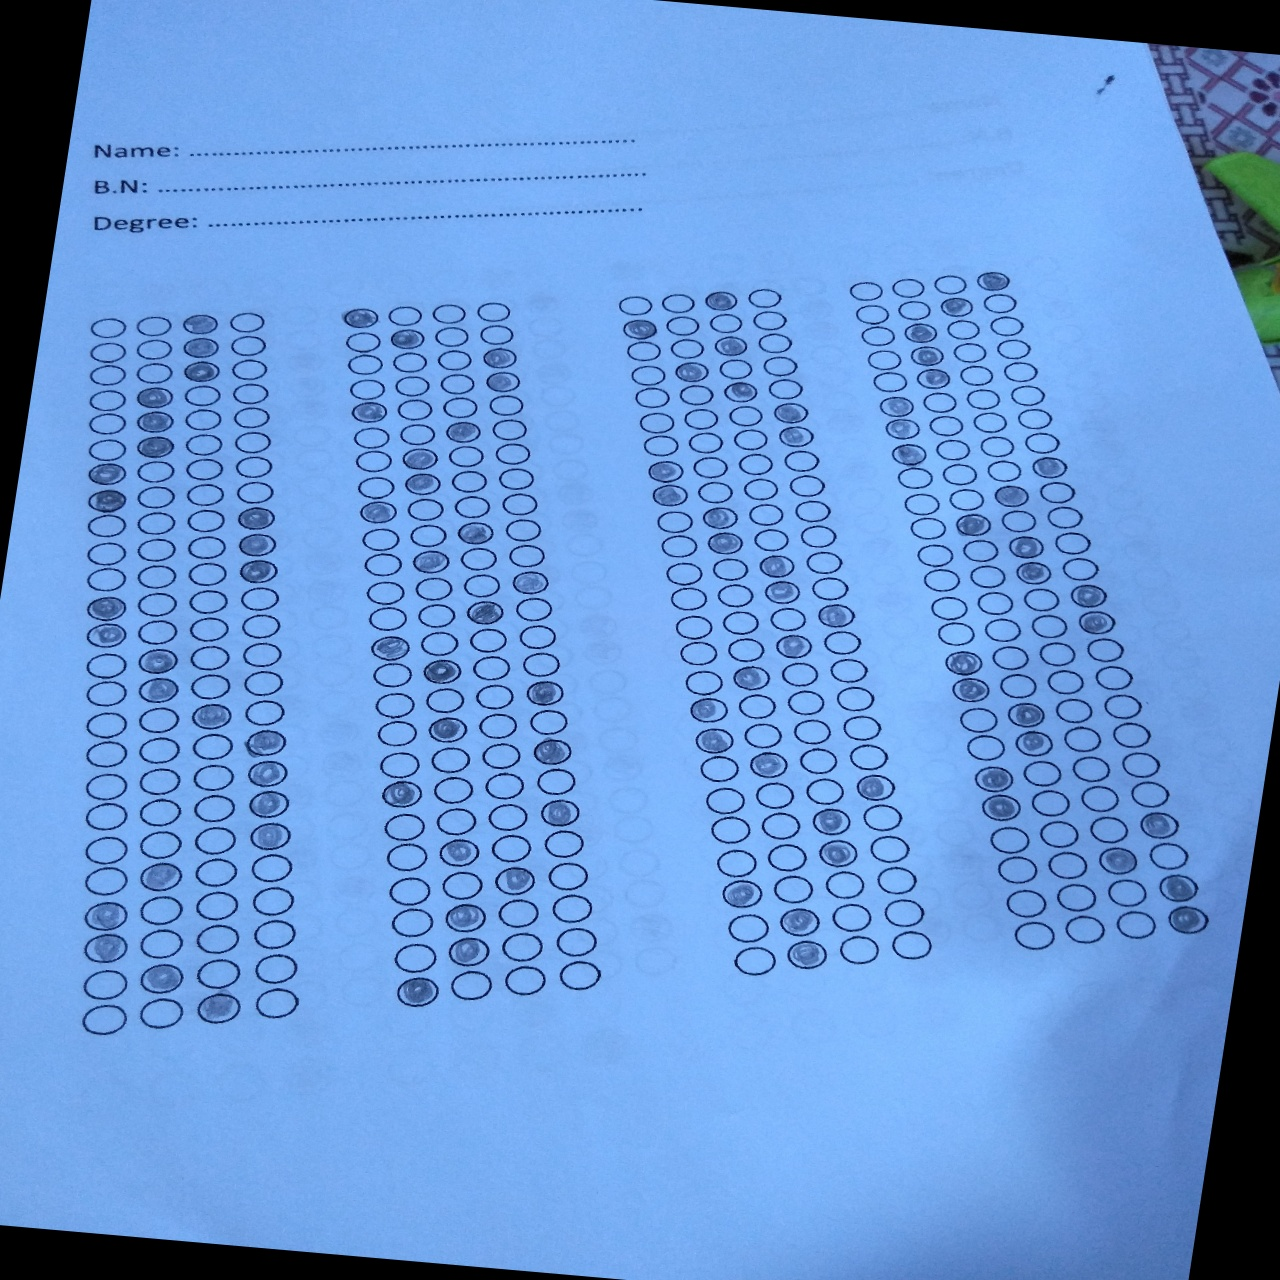not-c: (250, 985, 301, 1022), (136, 926, 188, 964), (550, 922, 601, 960), (445, 967, 497, 1005), (730, 942, 781, 980), (723, 910, 774, 947), (79, 1001, 130, 1037), (135, 892, 186, 928), (190, 855, 241, 891), (835, 933, 884, 971), (135, 995, 185, 1032), (251, 951, 301, 987), (192, 956, 243, 993), (248, 883, 299, 919), (246, 850, 297, 886), (554, 958, 605, 994), (886, 927, 937, 964), (190, 888, 241, 924), (496, 928, 547, 964), (248, 917, 299, 952), (499, 962, 550, 998), (879, 896, 930, 931), (190, 790, 239, 825), (81, 967, 130, 1002), (193, 921, 243, 956), (188, 730, 236, 765), (1034, 816, 1082, 851), (81, 864, 130, 898), (134, 734, 183, 768), (135, 702, 184, 736), (701, 784, 751, 817), (843, 740, 893, 772), (82, 833, 130, 867), (136, 828, 184, 862), (136, 796, 184, 830), (136, 765, 184, 799), (240, 695, 288, 729), (1060, 913, 1108, 947), (239, 666, 288, 699), (872, 864, 921, 897), (763, 842, 812, 874), (858, 802, 907, 835), (706, 813, 755, 846), (750, 779, 799, 812), (794, 744, 843, 777), (192, 823, 239, 857), (190, 761, 237, 795), (495, 896, 542, 930), (392, 941, 438, 975), (1102, 876, 1149, 910), (821, 869, 869, 901), (771, 873, 819, 906), (866, 832, 914, 865), (696, 753, 744, 785), (828, 901, 876, 934), (1145, 839, 1193, 872), (713, 847, 762, 879), (533, 765, 579, 799), (484, 799, 530, 833), (384, 840, 430, 874), (438, 869, 484, 903), (540, 828, 586, 862), (82, 799, 129, 832), (429, 774, 476, 806), (380, 811, 427, 844), (488, 832, 535, 865), (544, 860, 591, 893), (985, 823, 1032, 856), (1053, 880, 1099, 913), (1044, 849, 1091, 881), (1112, 908, 1159, 941), (757, 810, 805, 842), (801, 775, 849, 806), (387, 874, 433, 907), (389, 906, 435, 939), (994, 855, 1040, 887), (1003, 887, 1049, 920), (83, 738, 130, 770), (83, 770, 130, 802), (186, 670, 233, 702), (433, 806, 479, 838), (549, 893, 595, 925), (239, 639, 285, 670), (467, 625, 512, 656), (421, 685, 467, 716), (467, 653, 512, 685), (525, 707, 571, 738), (482, 770, 527, 802), (83, 708, 130, 738), (1126, 779, 1173, 810), (1012, 922, 1058, 953), (478, 741, 523, 772), (741, 720, 785, 751), (777, 659, 822, 690), (237, 611, 282, 641), (83, 679, 129, 709), (365, 604, 410, 634), (413, 600, 458, 631), (516, 621, 561, 652), (670, 612, 716, 642), (1027, 788, 1073, 818), (1076, 783, 1122, 813), (134, 561, 181, 591), (134, 617, 181, 646), (372, 690, 418, 720), (1085, 815, 1132, 844), (84, 651, 129, 681), (370, 660, 415, 690), (374, 719, 418, 749), (839, 713, 884, 743), (833, 683, 878, 714), (517, 651, 563, 680), (471, 682, 517, 712), (475, 710, 520, 740), (789, 717, 835, 747), (802, 549, 847, 578), (784, 688, 828, 719), (821, 627, 864, 658), (676, 639, 720, 669), (1109, 721, 1152, 751), (1069, 754, 1112, 784), (134, 590, 181, 618), (84, 565, 129, 594), (184, 559, 229, 588), (186, 587, 231, 617), (186, 615, 231, 645), (188, 644, 232, 673), (417, 629, 462, 659), (377, 751, 422, 781), (735, 692, 779, 721), (681, 668, 726, 697), (723, 636, 768, 666), (796, 522, 840, 551), (1051, 696, 1096, 726), (1060, 724, 1104, 754), (1020, 758, 1064, 788), (83, 540, 129, 568), (237, 585, 282, 613), (428, 745, 474, 774), (826, 656, 870, 686), (667, 585, 710, 614), (661, 559, 704, 588), (934, 619, 978, 648), (989, 644, 1033, 673), (1036, 640, 1080, 669), (1092, 663, 1136, 693), (956, 706, 1000, 735), (964, 733, 1007, 762), (653, 508, 697, 536), (973, 588, 1017, 617), (996, 672, 1039, 701), (1101, 692, 1143, 721), (1121, 750, 1163, 779), (134, 484, 179, 511), (185, 481, 229, 509), (185, 533, 229, 561), (402, 496, 445, 524), (511, 595, 554, 624), (765, 605, 809, 633), (709, 554, 753, 583), (750, 526, 794, 554), (658, 532, 701, 560), (791, 497, 835, 525), (927, 593, 971, 621), (1083, 635, 1126, 663), (1043, 668, 1087, 696), (134, 458, 178, 485), (134, 510, 178, 537), (183, 508, 227, 535), (134, 536, 178, 563), (360, 527, 404, 554), (504, 542, 549, 568), (361, 551, 406, 578), (411, 576, 456, 602), (919, 567, 964, 594), (980, 617, 1024, 644), (407, 523, 451, 550), (459, 572, 502, 600), (719, 608, 761, 636), (740, 476, 782, 504), (694, 478, 736, 506), (690, 452, 733, 481), (734, 450, 776, 478), (781, 447, 823, 475), (183, 455, 226, 482), (86, 512, 129, 539), (498, 491, 542, 518), (501, 517, 544, 544), (456, 545, 499, 572), (808, 576, 851, 602), (714, 583, 757, 610), (945, 486, 988, 513), (966, 563, 1009, 590), (1017, 585, 1061, 612), (1027, 612, 1070, 639), (183, 430, 224, 458), (86, 362, 128, 389), (86, 437, 128, 464), (451, 493, 493, 520), (363, 579, 406, 606), (744, 501, 787, 527), (907, 515, 949, 542), (914, 542, 956, 568), (996, 508, 1039, 535), (1058, 556, 1101, 583), (233, 454, 274, 481), (87, 339, 128, 366), (132, 336, 173, 363), (445, 443, 486, 470), (492, 440, 533, 467), (787, 474, 828, 501), (226, 333, 268, 359), (231, 404, 273, 430), (231, 429, 273, 455), (86, 388, 128, 414), (182, 407, 224, 433), (900, 491, 942, 517), (959, 538, 1001, 564), (1043, 504, 1085, 530), (731, 425, 771, 452), (755, 331, 795, 358), (1000, 358, 1040, 384), (944, 316, 983, 343), (926, 413, 966, 440), (1014, 406, 1054, 433), (226, 309, 267, 335), (229, 358, 270, 383), (230, 380, 271, 406), (234, 481, 275, 506), (132, 313, 173, 339), (134, 361, 175, 387), (182, 383, 223, 409), (384, 302, 425, 328), (429, 300, 470, 326), (343, 352, 384, 377), (350, 425, 392, 451), (495, 467, 536, 492), (983, 458, 1024, 484), (1051, 530, 1092, 556), (624, 338, 662, 365), (745, 285, 784, 312), (978, 433, 1016, 459), (87, 316, 129, 341), (433, 324, 472, 349), (393, 373, 433, 399), (486, 392, 526, 417), (489, 416, 529, 442), (397, 422, 437, 448), (449, 468, 489, 493), (685, 430, 724, 456), (681, 406, 721, 431), (726, 402, 765, 428), (931, 271, 971, 297), (964, 386, 1003, 411), (949, 340, 989, 366), (994, 338, 1034, 363), (969, 410, 1009, 436), (894, 464, 934, 490), (939, 461, 979, 486), (1036, 481, 1076, 506), (642, 433, 680, 459), (86, 411, 127, 436), (956, 363, 998, 388), (354, 448, 393, 474), (356, 475, 395, 501), (765, 376, 804, 402), (678, 382, 716, 408), (633, 384, 672, 410), (629, 363, 668, 389), (667, 335, 706, 361), (715, 355, 754, 381), (761, 353, 799, 379), (707, 311, 745, 336), (846, 278, 885, 304), (888, 274, 927, 300), (981, 290, 1020, 315), (865, 346, 904, 372), (870, 369, 908, 395), (920, 388, 959, 414), (1008, 383, 1047, 409), (987, 313, 1026, 339), (1023, 430, 1062, 456), (932, 435, 971, 461), (476, 322, 516, 347), (343, 329, 383, 354), (435, 348, 475, 373), (394, 396, 434, 421), (440, 394, 479, 418), (636, 410, 676, 435), (751, 307, 789, 333), (437, 372, 476, 396), (347, 376, 386, 401), (659, 291, 697, 315), (472, 300, 512, 324), (896, 298, 933, 322), (390, 350, 429, 374), (662, 314, 701, 338), (859, 324, 896, 348), (855, 302, 892, 326), (615, 294, 654, 316)
taken-c: (135, 859, 186, 896), (136, 960, 188, 996), (393, 974, 444, 1010), (440, 899, 491, 935), (488, 863, 539, 899), (435, 835, 486, 871), (851, 770, 903, 806), (82, 898, 132, 934), (82, 931, 132, 967), (195, 990, 245, 1027), (784, 937, 835, 973), (745, 749, 796, 785), (813, 836, 864, 872), (776, 906, 828, 941), (445, 934, 495, 971), (536, 795, 586, 830), (717, 877, 768, 912), (716, 876, 767, 911), (1163, 903, 1213, 938), (806, 805, 856, 840), (770, 629, 819, 663), (375, 778, 425, 811), (685, 694, 733, 728), (1002, 699, 1050, 733), (947, 674, 995, 708), (1153, 871, 1201, 905), (692, 726, 738, 760), (729, 662, 776, 696), (978, 791, 1024, 825), (1135, 808, 1182, 842), (520, 678, 568, 710), (134, 645, 181, 678), (135, 674, 182, 707), (244, 726, 291, 758), (246, 788, 293, 821), (248, 821, 295, 853), (971, 763, 1017, 796), (1010, 729, 1057, 762), (1095, 844, 1142, 877), (418, 658, 467, 689), (365, 632, 413, 663), (353, 497, 401, 529), (406, 549, 455, 579), (464, 598, 511, 629), (422, 715, 470, 745), (505, 568, 553, 599), (949, 511, 998, 542), (812, 601, 858, 633), (527, 736, 577, 765), (188, 701, 234, 731), (244, 758, 291, 789), (449, 518, 496, 549), (941, 648, 988, 679), (1067, 583, 1114, 613), (987, 482, 1034, 512), (237, 530, 282, 560), (1074, 608, 1121, 638), (1010, 559, 1057, 588), (83, 620, 128, 651), (236, 557, 281, 586), (338, 302, 381, 333), (86, 486, 130, 516), (233, 504, 278, 533), (86, 594, 131, 622), (1003, 535, 1049, 563), (881, 415, 925, 444), (756, 552, 799, 581), (1029, 454, 1071, 483), (873, 393, 915, 422), (912, 366, 954, 395), (132, 384, 178, 411), (397, 445, 441, 474), (441, 418, 484, 447), (477, 346, 520, 374), (386, 326, 429, 354), (761, 578, 804, 606), (890, 440, 931, 469), (86, 459, 130, 486), (400, 470, 442, 498), (482, 368, 524, 396), (900, 320, 942, 348), (179, 311, 223, 338), (134, 408, 177, 435), (132, 434, 176, 461), (347, 399, 390, 425), (906, 342, 947, 370), (937, 294, 978, 322), (972, 268, 1013, 297), (709, 332, 750, 360), (670, 359, 712, 387), (721, 379, 762, 407), (775, 423, 816, 451), (649, 481, 690, 509), (700, 503, 741, 531), (181, 358, 223, 384), (701, 287, 743, 314), (706, 529, 745, 557), (620, 316, 661, 343), (770, 399, 810, 425), (646, 458, 686, 485), (179, 336, 223, 361)
